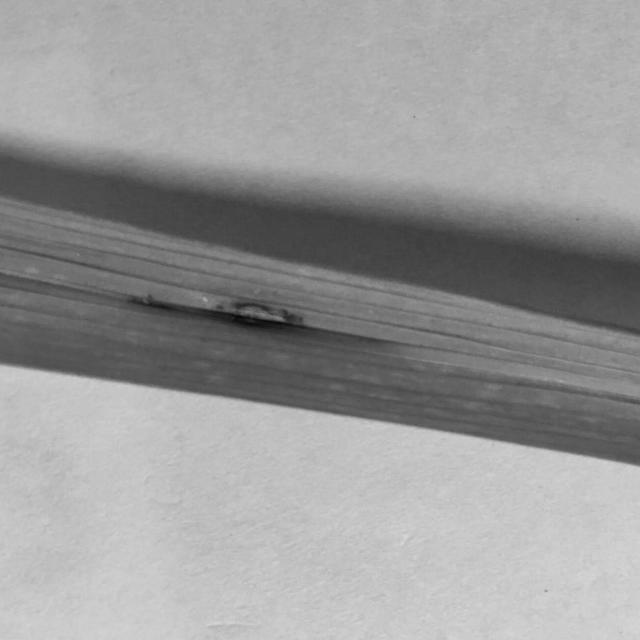Leaf_Blast: (176, 272, 342, 399)
